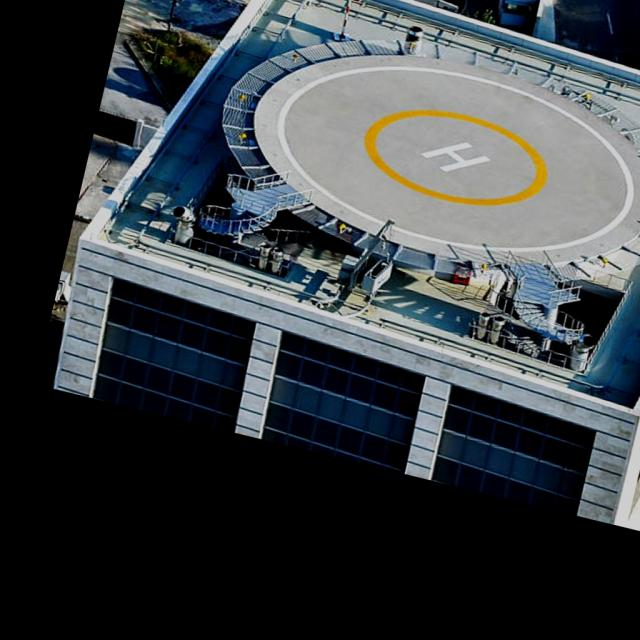helipad: (360, 103, 551, 209)
